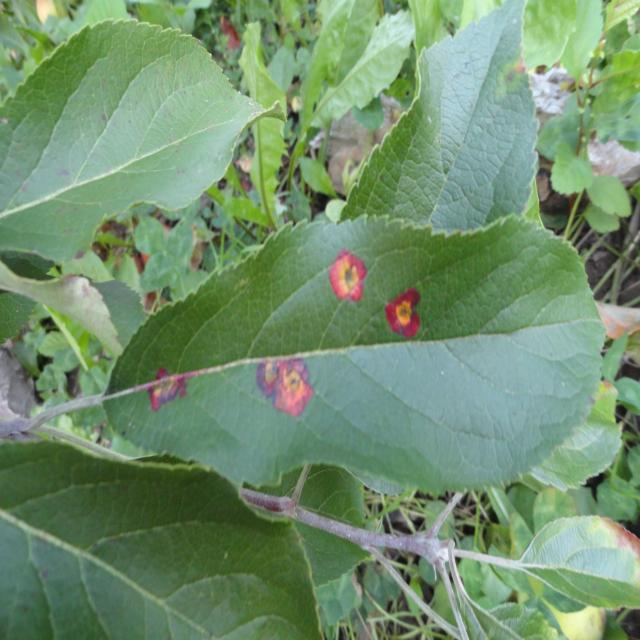Rust: (114, 339, 215, 433), (249, 321, 321, 446), (382, 253, 429, 391), (324, 232, 373, 332)
